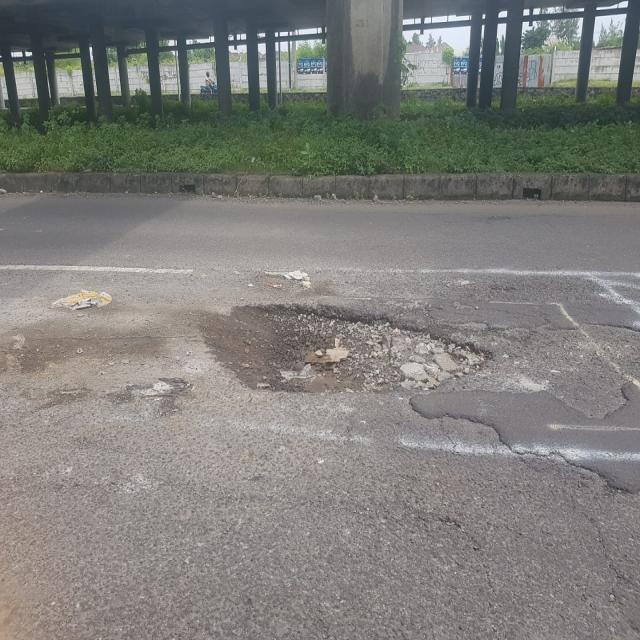pothole: (200, 301, 504, 398)
